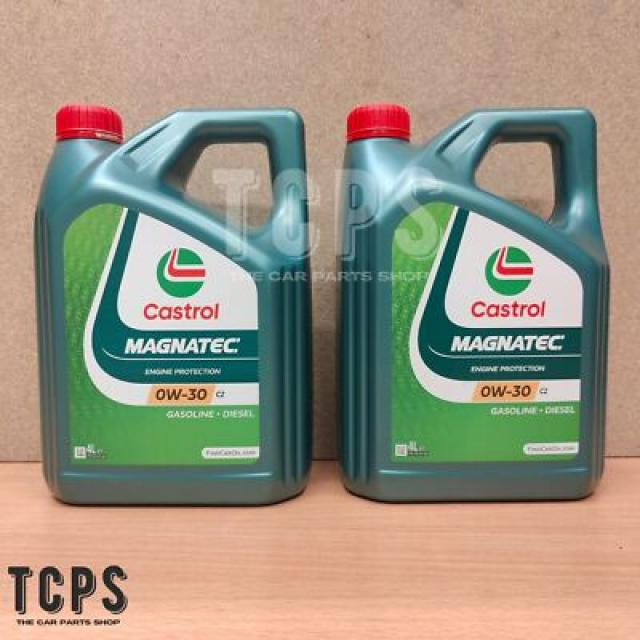motor_oil: (332, 90, 614, 516), (30, 100, 309, 511)
